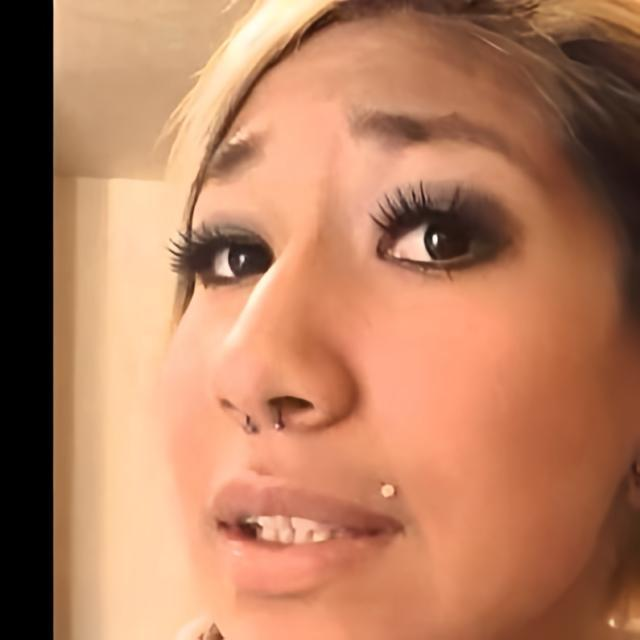fear: (154, 0, 632, 640)
